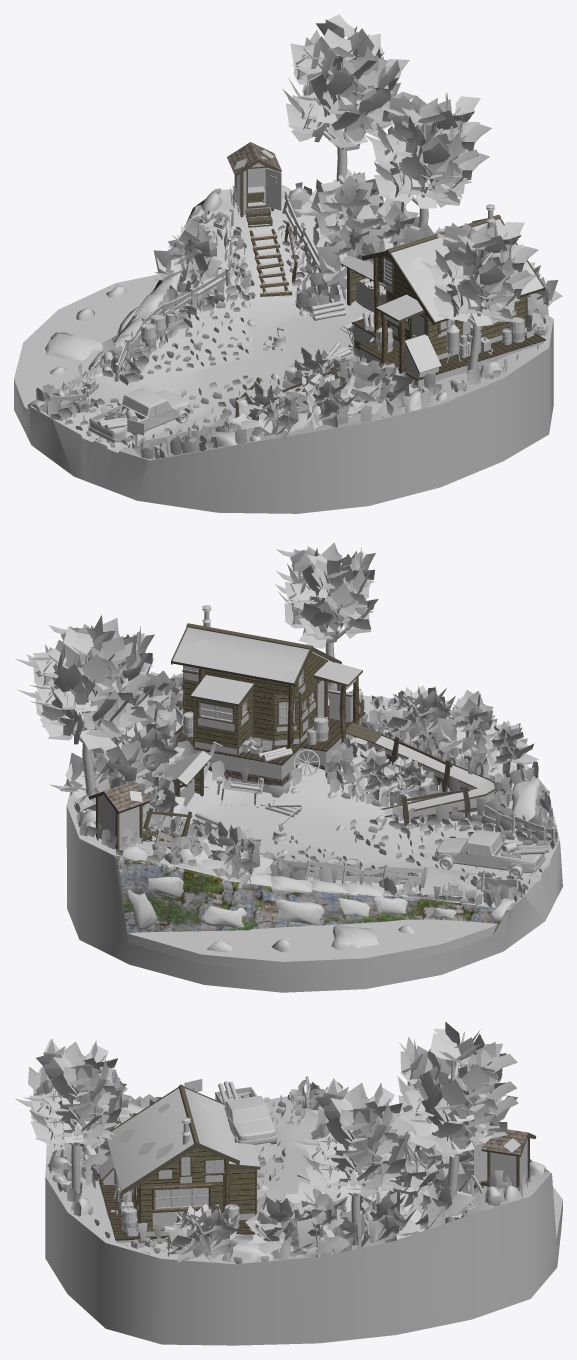
File: DioramaExport.fbx
3 renders of one model, top to bottom at view 1: azimuth 30°, elevation 25°; view 2: azimuth 150°, elevation 25°; view 3: azimuth 270°, elevation 25°, orthographic. The views are drawn at different scales.
Parts seen in each view (by area): view 1: groundplane_01_geo, House_01_geo, Tree_01_geo, Tree_01_geo1, Tree_01_geo2, bush_01_geo, Outhouse_01_geo, bush_01_geo1, bush_01_geo7, FordF150_01_geo, bush_01_geo5, bush_01_geo6 (+9 smaller); view 2: groundplane_01_geo, House_01_geo, Tree_01_geo, Tree_01_geo2, HousePath_01_geo, bush_01_geo, bush_01_geo1, FordF150_01_geo, bush_01_geo5, Outhouse_01_geo, bush_01_geo6, bush_01_geo7 (+18 smaller); view 3: groundplane_01_geo, House_01_geo, Tree_01_geo, Tree_01_geo1, Tree_01_geo2, bush_01_geo, bush_01_geo3, bush_01_geo10, bush_01_geo4, Outhouse_01_geo, FordF150_01_geo, bush_01_geo2 (+3 smaller).
Part boxes in pixels (x1=…): groundplane_01_geo: x1=14, y1=189, x2=553, y2=513; House_01_geo: x1=351, y1=204, x2=545, y2=386; Tree_01_geo: x1=282, y1=14, x2=414, y2=181; Tree_01_geo1: x1=364, y1=92, x2=491, y2=227; Tree_01_geo2: x1=420, y1=219, x2=538, y2=379; bush_01_geo: x1=293, y1=168, x2=384, y2=247; Outhouse_01_geo: x1=227, y1=142, x2=281, y2=227; bush_01_geo1: x1=153, y1=218, x2=222, y2=288; bush_01_geo7: x1=231, y1=381, x2=313, y2=439; FordF150_01_geo: x1=88, y1=387, x2=191, y2=445; bush_01_geo5: x1=342, y1=360, x2=419, y2=418; bush_01_geo6: x1=284, y1=373, x2=361, y2=430; groundplane_01_geo: x1=66, y1=695, x2=562, y2=992; House_01_geo: x1=171, y1=605, x2=365, y2=795; Tree_01_geo: x1=15, y1=615, x2=151, y2=810; Tree_01_geo2: x1=275, y1=542, x2=378, y2=699; HousePath_01_geo: x1=346, y1=723, x2=495, y2=826; bush_01_geo: x1=49, y1=740, x2=156, y2=812; bush_01_geo1: x1=194, y1=821, x2=273, y2=883; FordF150_01_geo: x1=434, y1=829, x2=545, y2=878; bush_01_geo5: x1=376, y1=685, x2=455, y2=740; Outhouse_01_geo: x1=88, y1=780, x2=152, y2=849; bush_01_geo6: x1=432, y1=690, x2=498, y2=754; bush_01_geo7: x1=464, y1=721, x2=539, y2=775; groundplane_01_geo: x1=45, y1=1096, x2=562, y2=1345; House_01_geo: x1=97, y1=1084, x2=260, y2=1242; Tree_01_geo: x1=397, y1=1022, x2=518, y2=1223; Tree_01_geo1: x1=290, y1=1078, x2=410, y2=1248; Tree_01_geo2: x1=14, y1=1038, x2=123, y2=1198; bush_01_geo: x1=376, y1=1155, x2=475, y2=1238; bush_01_geo3: x1=284, y1=1181, x2=367, y2=1257; bush_01_geo10: x1=160, y1=1203, x2=244, y2=1262; bush_01_geo4: x1=245, y1=1196, x2=323, y2=1259; Outhouse_01_geo: x1=473, y1=1129, x2=536, y2=1190; FordF150_01_geo: x1=215, y1=1087, x2=277, y2=1144; bush_01_geo2: x1=340, y1=1190, x2=419, y2=1247.
Bounding box in the file's own units: 2276 × 1326 × 2369.
